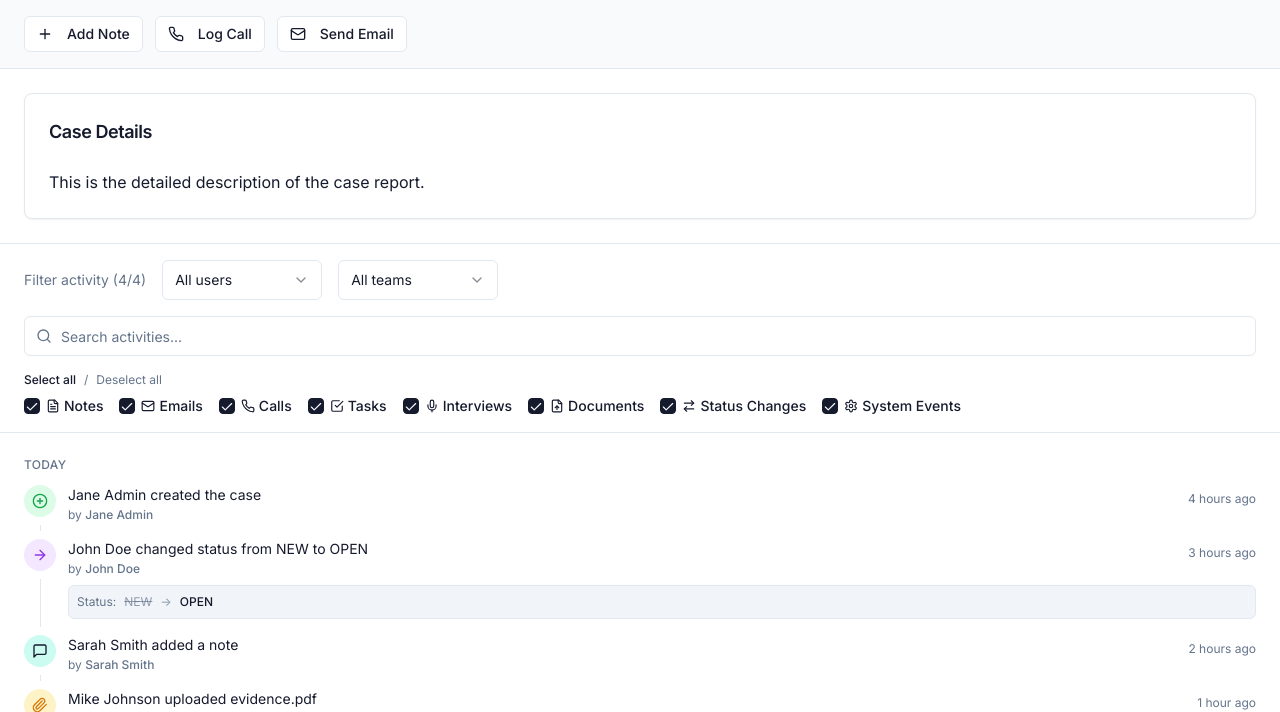
Test: CaseActivityTimeline › filters activities when unchecking type checkboxes
Expected: the text "Jane Admin created the case" is shown, [68, 486, 261, 503]
# Click "Deselect all" first
Click the button "Deselect all": [129, 380] box [96, 372, 162, 388]
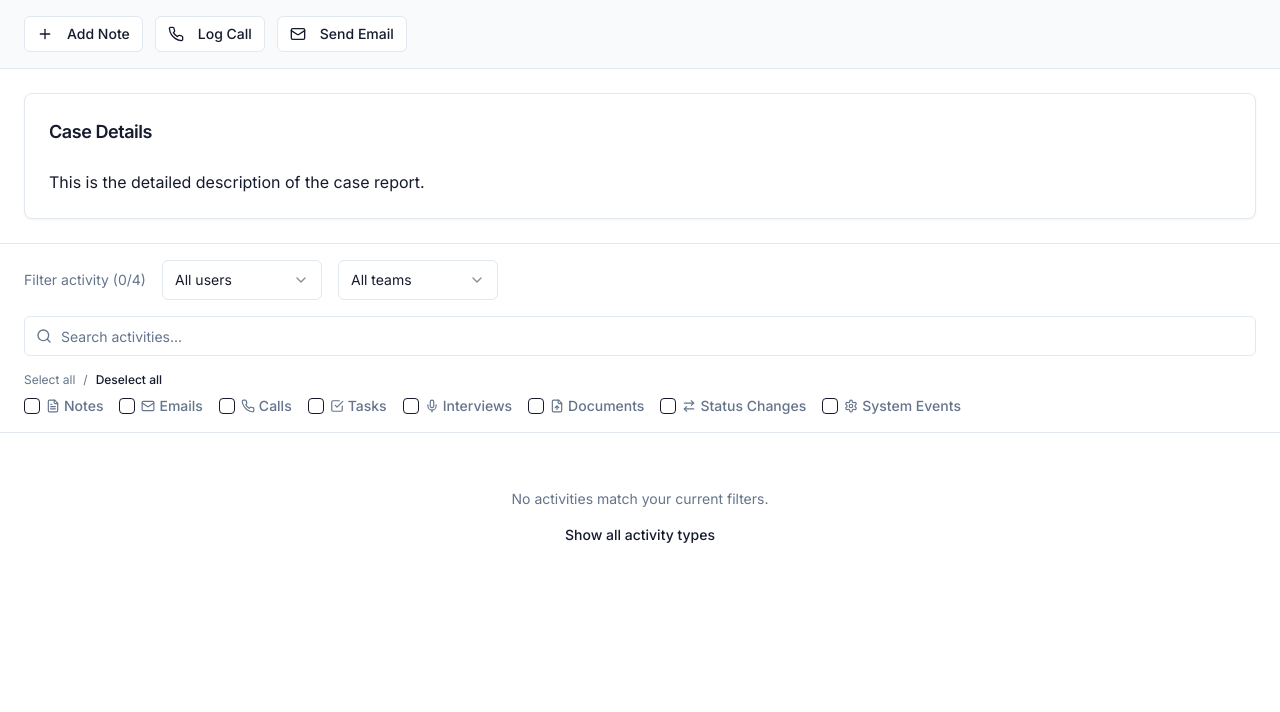
# Now only check "Notes" to see just notes
Click the checkbox named "notes" next to "Notes": [32, 406] box [24, 398, 40, 414]
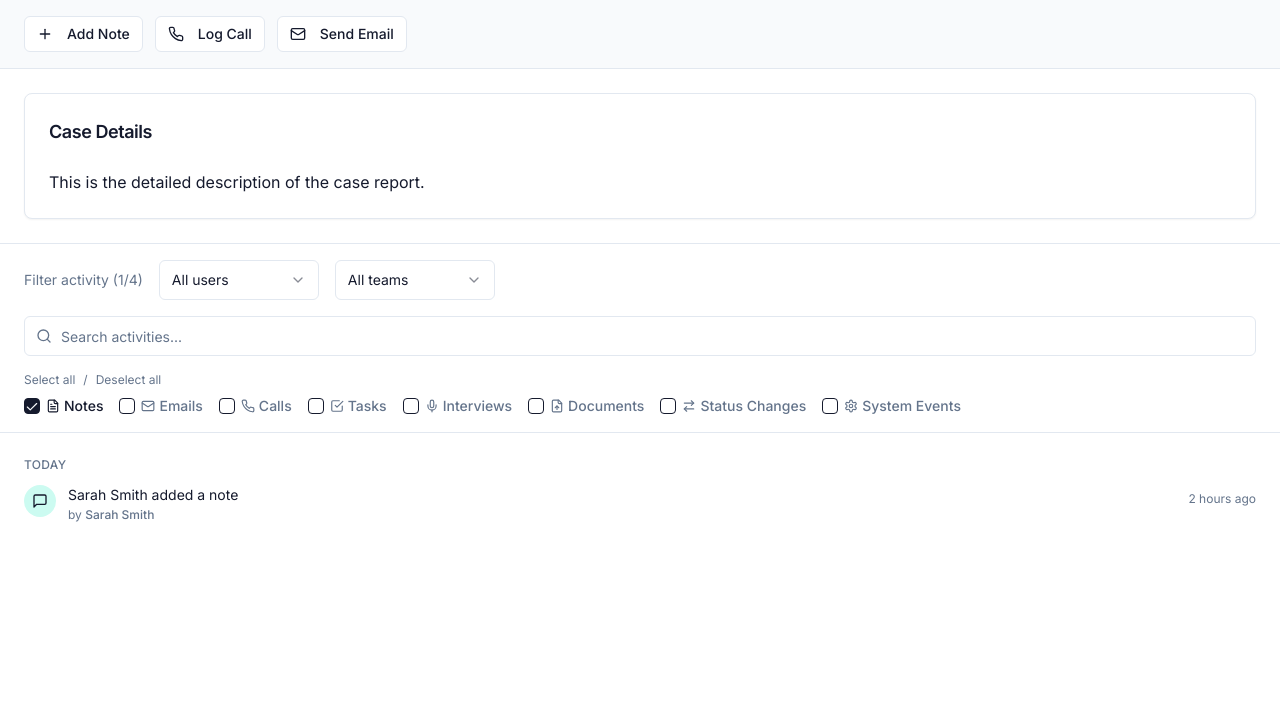
Expected: the text "Sarah Smith added a note" is shown, [68, 486, 238, 503]
